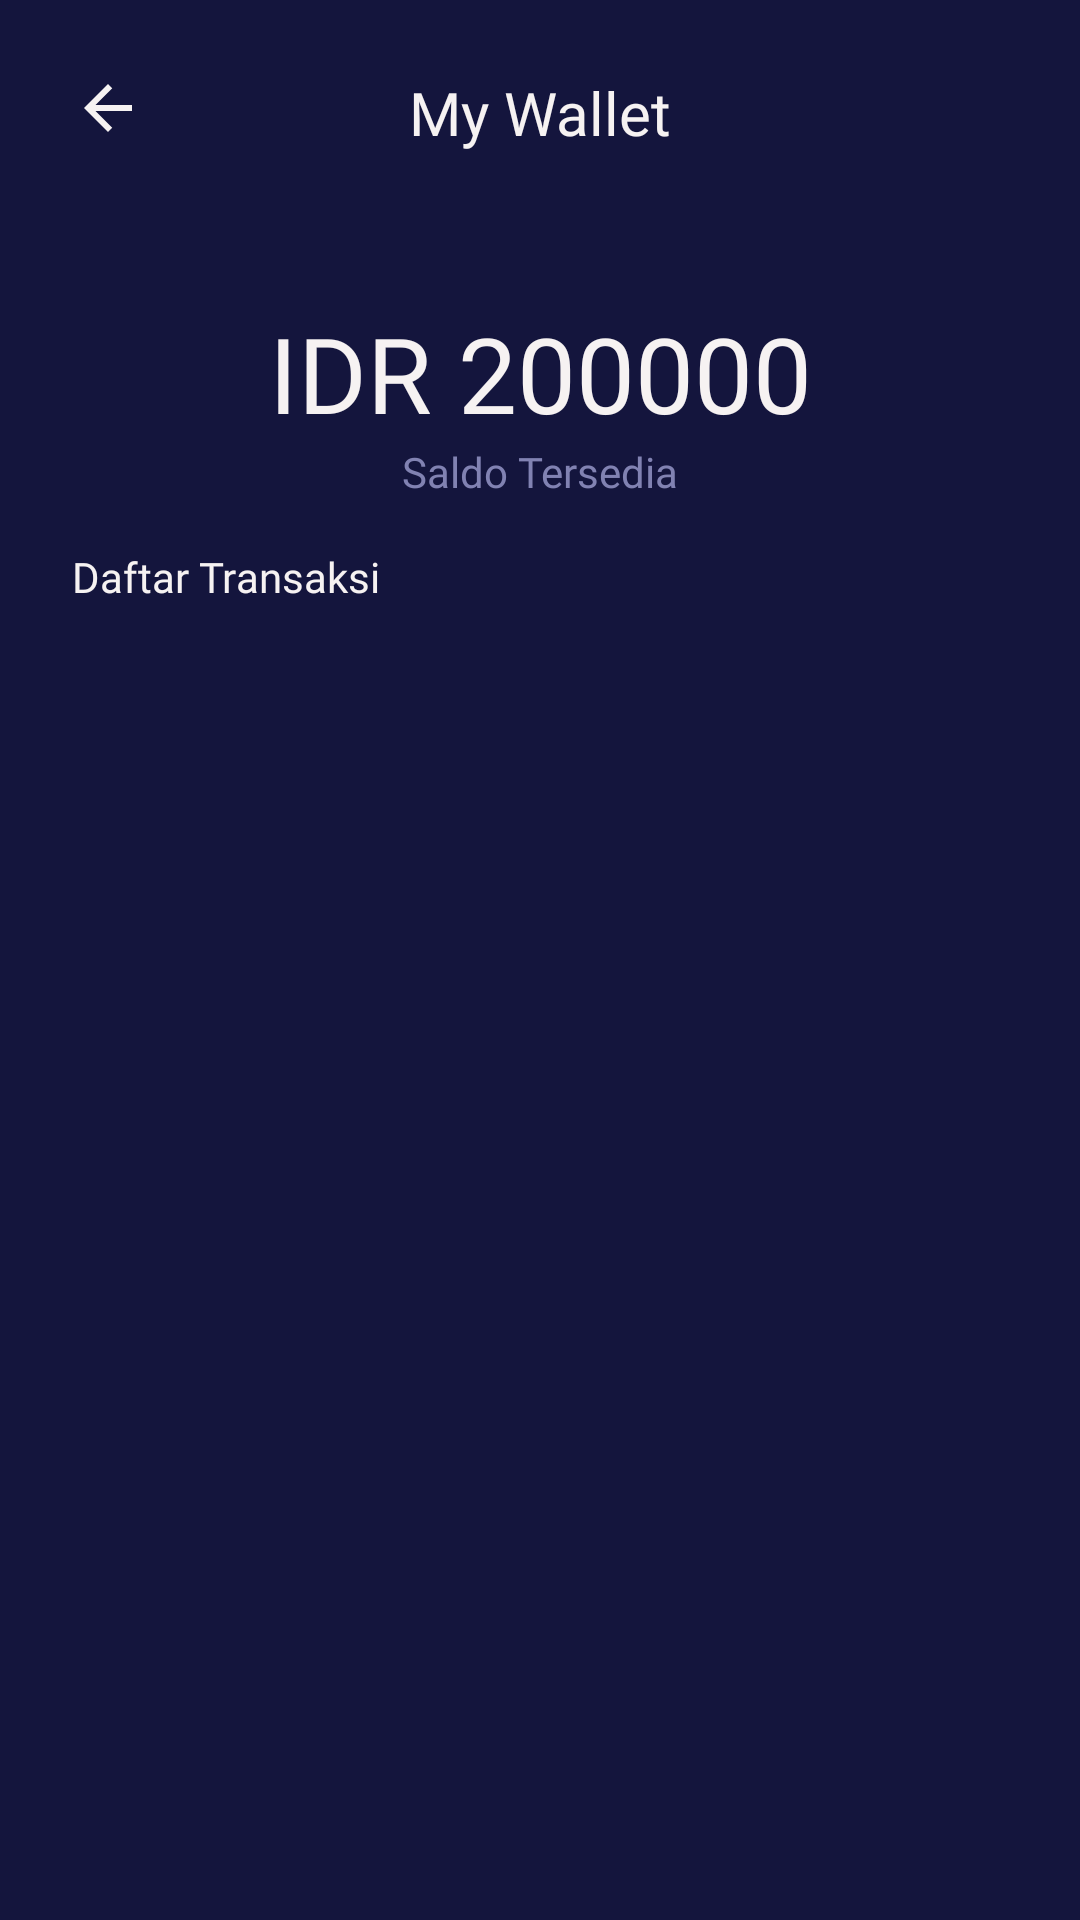

Named icons in this screenshot (1080*1920) and their centers, [x,y]:
arrow back: [108,108]
